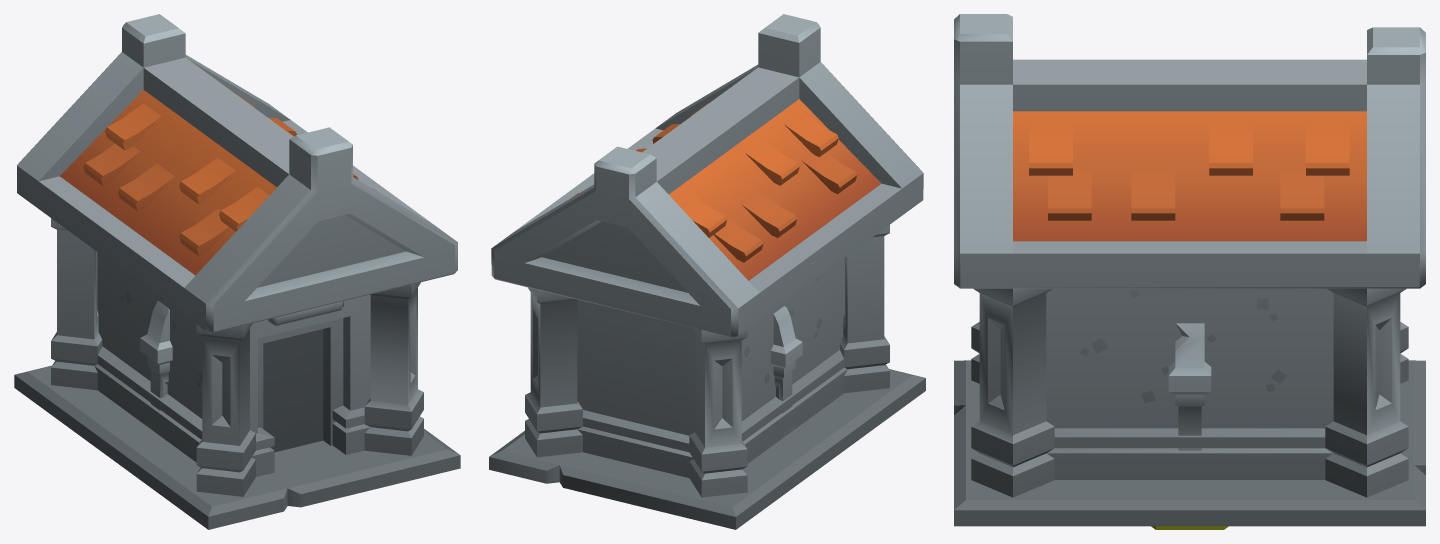
Rendered from world-kit.glb.
3 renders of one model, left to right at view 1: azimuth 30°, elevation 25°; view 2: azimuth 150°, elevation 25°; view 3: azimuth 270°, elevation 25°, orthographic. The views are drawn at different scales.
Visible parts, largest first — view 1: crypt, Cube.632; view 2: crypt, Cube.632; view 3: crypt, Cube.632.
Boxes of the visible parts, left/top/right/bottom form: crypt: left=14, top=14, right=460, bottom=529; Cube.632: left=140, top=300, right=172, bottom=435; crypt: left=489, top=14, right=925, bottom=529; Cube.632: left=771, top=306, right=802, bottom=436; crypt: left=954, top=14, right=1425, bottom=526; Cube.632: left=1168, top=323, right=1211, bottom=450.
Bounding box in the file's own units: 6 × 9 × 8.
3 materials, 3 textured.
